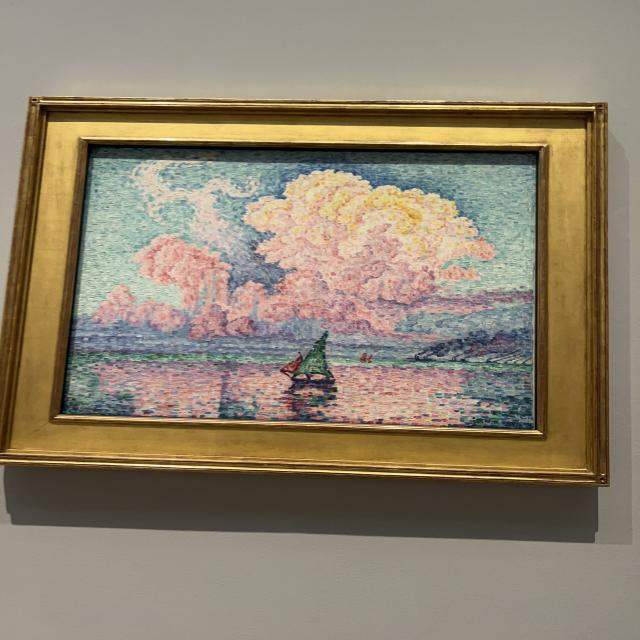sunrise: (69, 159, 534, 426)
